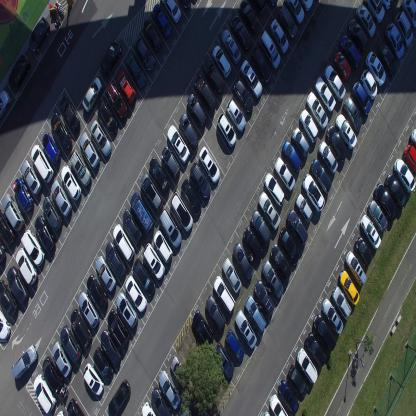car: (129, 194, 154, 235), (32, 372, 56, 414), (11, 343, 38, 380), (165, 124, 189, 165), (158, 209, 181, 251), (169, 193, 193, 233), (305, 91, 329, 130), (77, 291, 100, 331), (212, 275, 235, 315), (234, 310, 257, 350), (302, 171, 325, 211), (158, 369, 181, 409), (313, 314, 337, 352), (30, 144, 54, 182), (374, 182, 398, 220), (262, 259, 284, 300), (240, 57, 262, 98), (139, 175, 162, 214), (278, 225, 300, 265), (70, 308, 92, 348), (50, 112, 72, 152), (34, 214, 56, 254), (7, 265, 29, 305), (132, 259, 155, 297), (15, 247, 38, 285), (21, 230, 45, 266), (258, 192, 280, 231), (192, 310, 214, 349), (59, 325, 81, 364), (2, 193, 24, 232), (8, 52, 30, 91), (244, 295, 265, 335), (107, 308, 128, 348), (198, 145, 219, 185), (100, 328, 121, 368), (134, 33, 155, 73), (79, 130, 100, 170), (112, 224, 134, 262), (86, 274, 108, 312), (212, 341, 234, 379), (193, 74, 215, 112), (322, 297, 344, 335), (42, 356, 64, 394), (326, 125, 348, 163), (335, 112, 357, 150), (259, 30, 281, 68), (125, 52, 147, 90), (106, 81, 128, 119), (28, 15, 50, 53), (108, 379, 131, 415), (232, 243, 253, 282), (250, 210, 271, 249), (147, 158, 168, 197), (202, 56, 223, 95), (270, 244, 292, 281), (143, 243, 165, 280), (125, 275, 147, 312), (116, 292, 138, 329), (253, 280, 275, 317), (344, 250, 366, 287), (94, 255, 116, 292), (310, 157, 332, 194), (314, 75, 336, 112), (324, 64, 346, 101), (81, 76, 103, 113), (96, 98, 118, 135), (69, 149, 91, 186), (20, 159, 42, 196), (360, 213, 382, 250), (99, 40, 122, 75), (105, 242, 126, 280), (189, 162, 210, 200), (339, 268, 360, 306), (297, 346, 318, 384), (90, 119, 111, 157), (274, 156, 296, 192), (287, 363, 309, 399), (287, 208, 308, 245), (121, 210, 142, 247), (251, 46, 272, 83), (61, 164, 82, 201), (42, 195, 63, 232), (13, 176, 34, 213), (386, 172, 407, 209), (304, 332, 326, 367), (394, 158, 416, 193), (205, 294, 225, 332), (221, 258, 241, 296), (180, 178, 200, 216), (221, 28, 241, 66), (52, 339, 72, 377), (299, 107, 319, 145), (365, 50, 386, 86), (231, 14, 252, 50), (59, 95, 80, 131), (51, 179, 72, 215), (82, 362, 104, 396), (340, 34, 362, 68), (178, 114, 198, 151), (264, 172, 285, 207), (185, 93, 206, 128), (332, 284, 352, 320), (378, 41, 398, 77), (356, 2, 376, 38), (269, 18, 289, 54), (152, 2, 172, 38), (117, 69, 137, 105), (368, 198, 388, 234), (233, 78, 254, 112), (92, 346, 113, 380), (238, 0, 260, 32), (343, 96, 362, 133), (242, 228, 262, 263), (226, 98, 246, 133), (278, 379, 298, 414), (386, 22, 404, 60), (278, 4, 297, 40), (160, 146, 180, 180), (212, 43, 232, 77), (216, 112, 236, 146), (170, 354, 190, 388), (282, 139, 302, 173), (318, 140, 338, 174), (142, 17, 162, 51), (42, 131, 62, 165), (225, 328, 244, 362), (0, 278, 17, 316), (0, 207, 16, 247), (150, 386, 172, 415), (352, 81, 371, 114), (348, 18, 368, 49), (363, 0, 386, 26), (154, 231, 172, 264), (397, 10, 413, 47), (291, 126, 310, 157), (354, 235, 372, 267), (333, 50, 351, 82), (295, 192, 313, 223), (360, 69, 378, 100), (159, 0, 181, 23), (284, 0, 304, 25), (402, 143, 416, 177), (269, 394, 289, 416), (400, 0, 416, 27), (0, 88, 11, 122), (66, 397, 86, 415), (0, 309, 11, 339), (249, 0, 266, 15), (141, 402, 157, 416), (298, 0, 314, 13), (380, 0, 394, 12), (0, 241, 7, 264), (178, 0, 191, 12), (178, 404, 192, 415), (408, 128, 416, 144), (266, 0, 279, 8), (262, 410, 271, 415)
